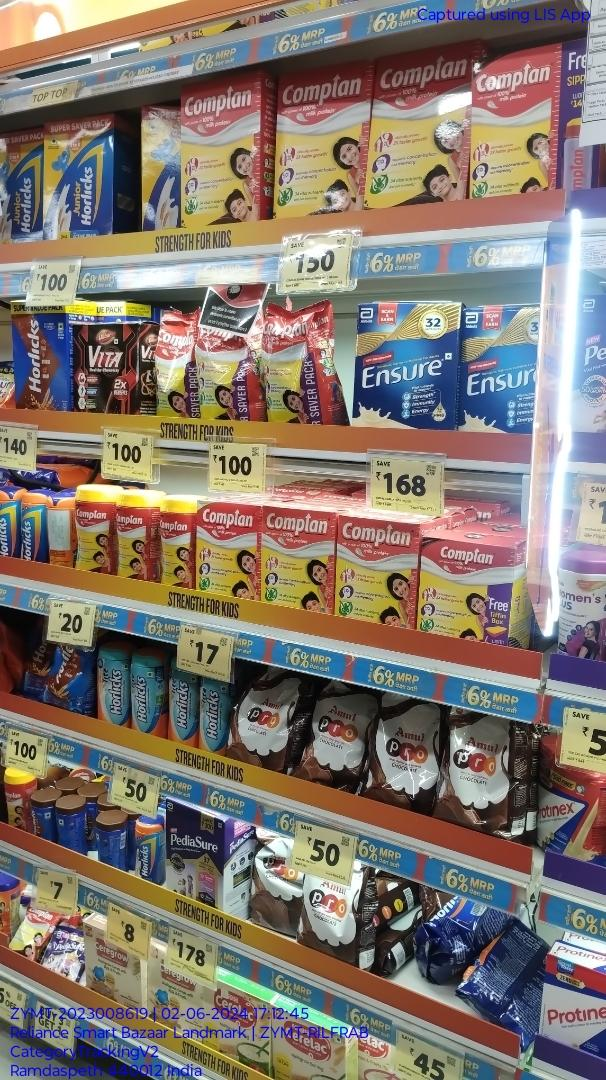COMPLAN_CHOCOLATE_200_GMS_JAR: (3, 770, 31, 831)
COMPLAN_CHOCOLATE_500_GMS_JAR: (115, 489, 156, 579), (75, 485, 113, 575), (161, 498, 194, 589)
COMPLAN_RC_POUCH_700_GMS_12: (263, 306, 333, 428), (198, 326, 251, 423), (154, 311, 194, 418)
ENSURE_VANILLA_400_G_PACK: (357, 303, 453, 430)
HORLICKS_LITE_REGULAR_MALT_500_GM_JAR: (129, 656, 162, 735), (168, 670, 198, 745), (98, 649, 127, 726), (201, 678, 228, 756)
